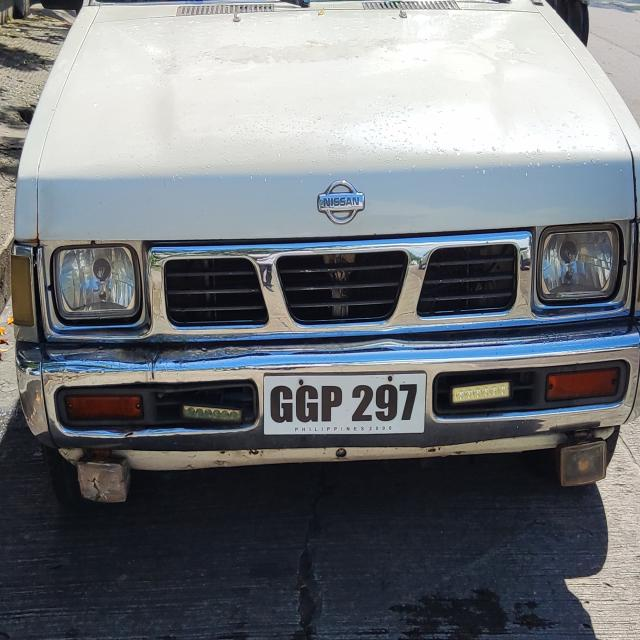plate: (261, 368, 428, 437)
